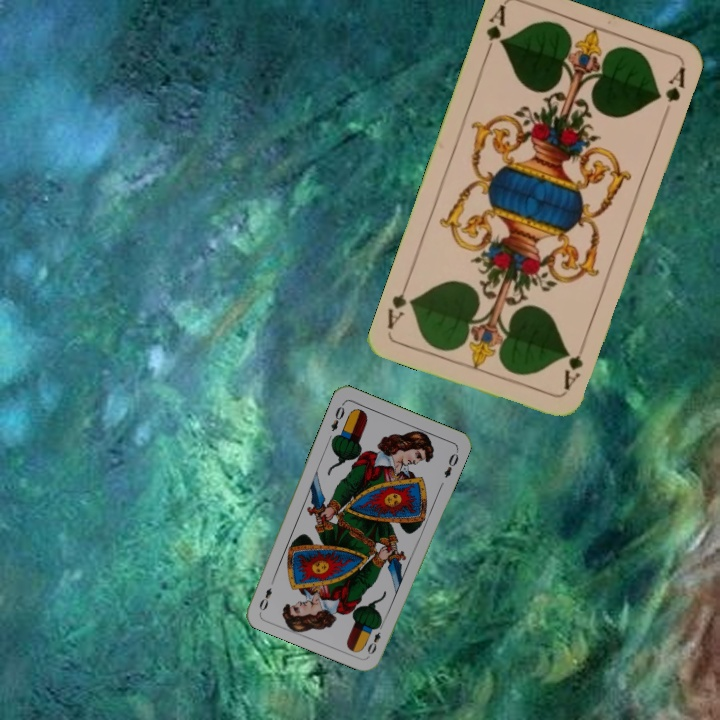EO: (363, 619, 386, 657), (327, 399, 347, 434)
GA: (481, 2, 509, 60), (560, 349, 586, 393)
